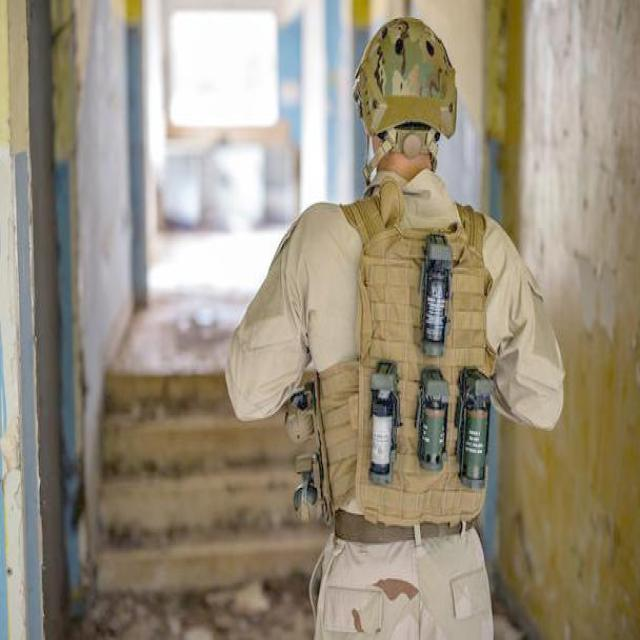grenade: (457, 367, 495, 490), (420, 231, 455, 362), (370, 366, 404, 485), (416, 370, 452, 473), (294, 452, 322, 527), (285, 388, 315, 446)
